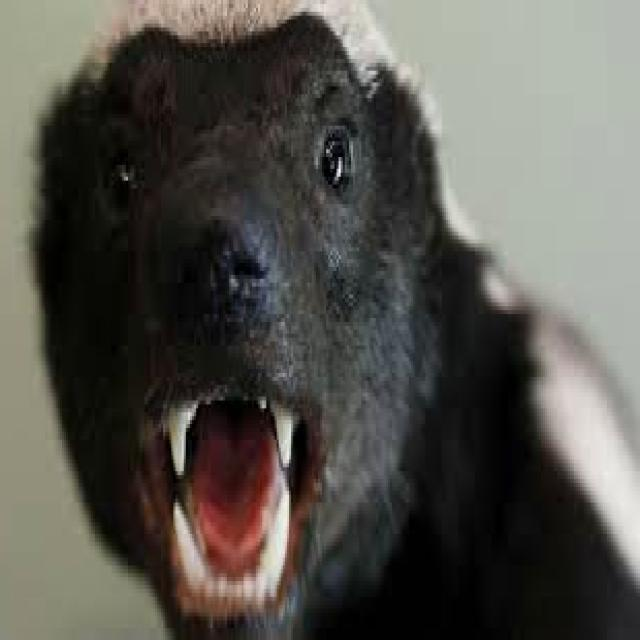badger: (35, 0, 640, 636)
